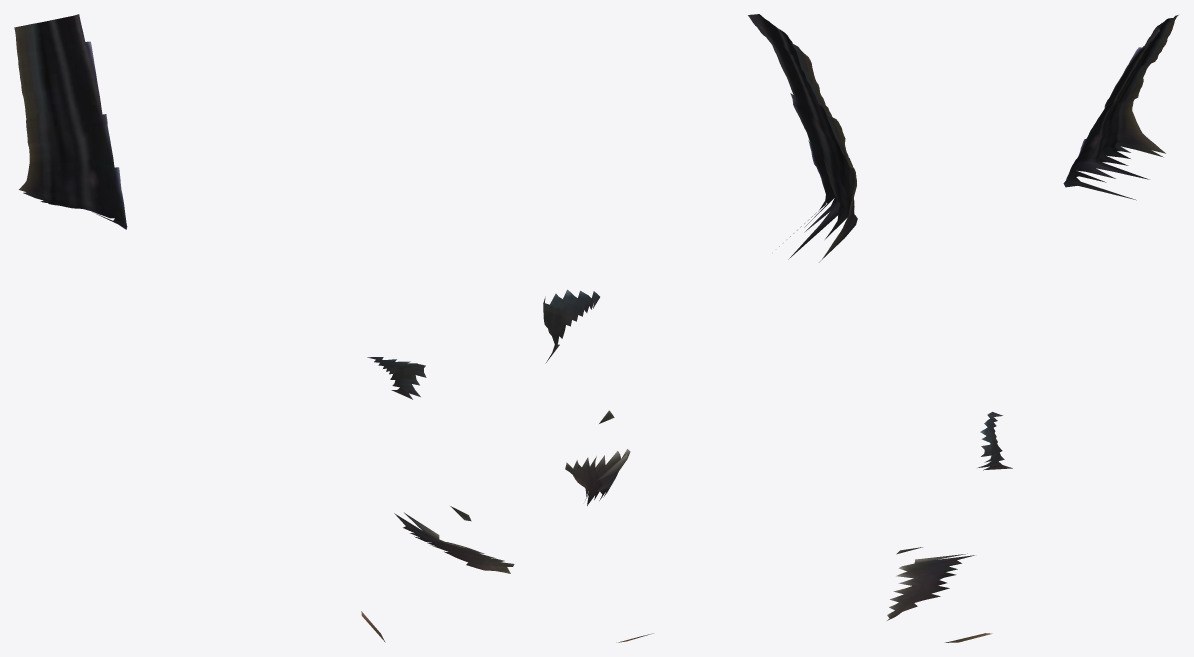
Rendered from observed-surface.glb.
The picture shows the model from 3 angles, left to right: view 1: azimuth 30°, elevation 25°; view 2: azimuth 150°, elevation 25°; view 3: azimuth 270°, elevation 25°; orthographic projection. The views are drawn at different scales.
Parts seen in each view (by area): view 1: geometry_0; view 2: geometry_0; view 3: geometry_0.
Boxes of the visible parts, x1,y1,x2,y2 form: geometry_0: (14, 14, 514, 642); geometry_0: (543, 14, 857, 642); geometry_0: (887, 15, 1178, 642).
Size of the model in its own units: 0.4538 by 0.7306 by 0.3662.
Materials: 1 (1 with a texture image).
